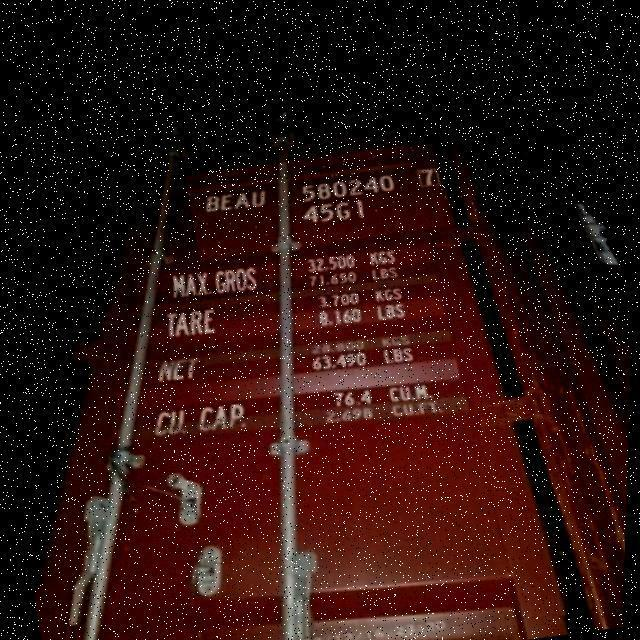container_number_h: (184, 114, 482, 273)
